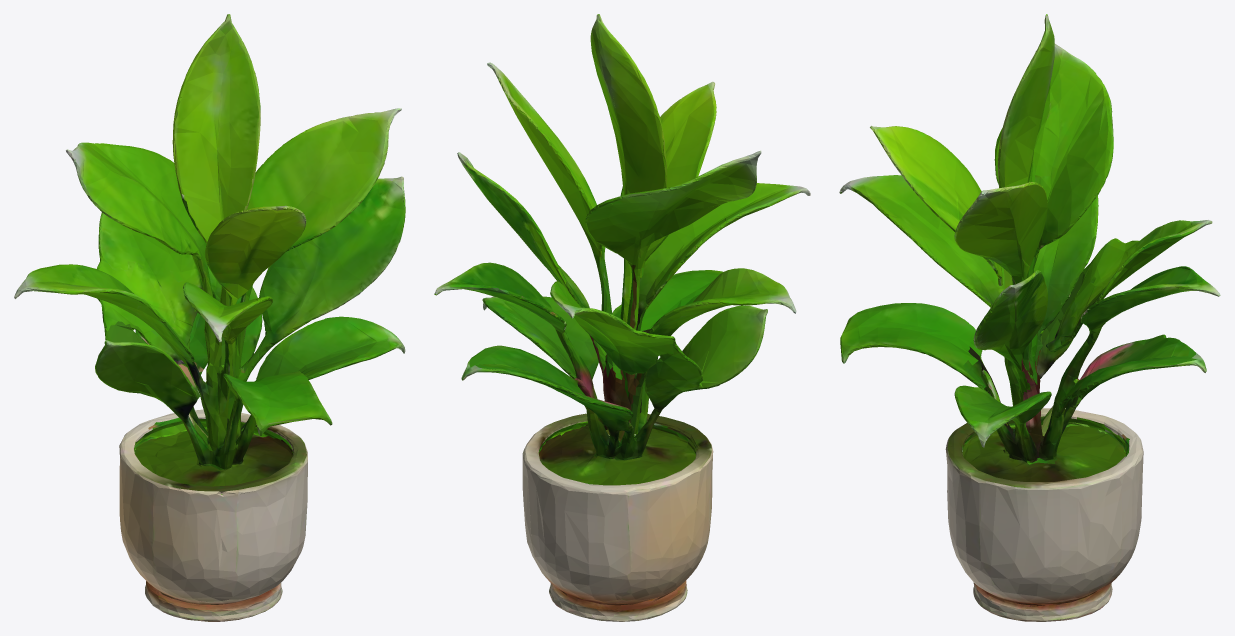
File: sci-fi-planter-d.collider.glb
3 views of the same model, side by side, from view 1: azimuth 30°, elevation 25°; view 2: azimuth 150°, elevation 25°; view 3: azimuth 270°, elevation 25° (orthographic). The views are drawn at different scales.
Parts seen in each view (by area): view 1: temp_mesh.ply; view 2: temp_mesh.ply; view 3: temp_mesh.ply.
Boxes of the visible parts, left/top/right/bottom form: temp_mesh.ply: left=14, top=14, right=405, bottom=621; temp_mesh.ply: left=434, top=14, right=810, bottom=621; temp_mesh.ply: left=839, top=14, right=1220, bottom=621.
Bounding box in the file's own units: 1.3 × 1.97 × 1.16.
Materials: 1 (1 with a texture image).
